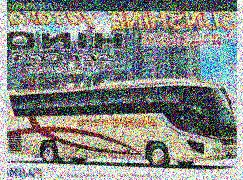bus: (9, 79, 236, 168)
